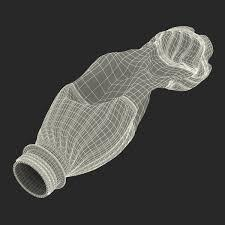plastic: (9, 23, 215, 196)
